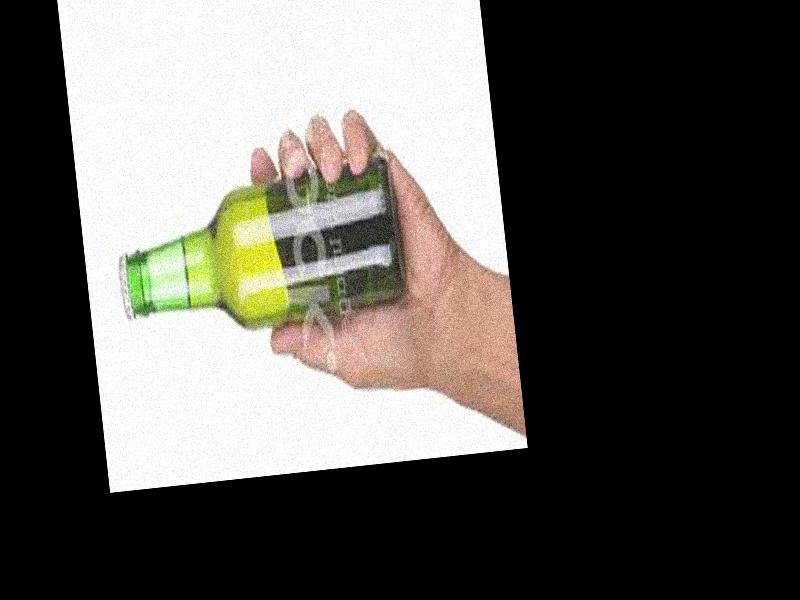Beer: (110, 164, 408, 346)
